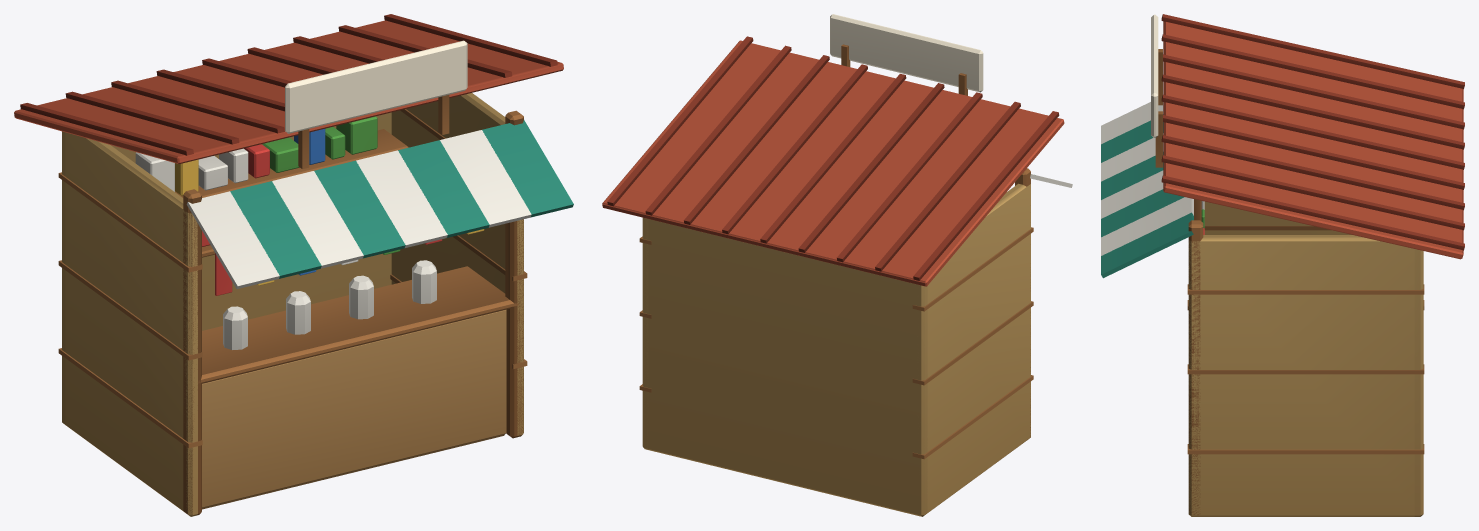
File: kios.glb
3 views of the same model, side by side, from view 1: azimuth 30°, elevation 25°; view 2: azimuth 150°, elevation 25°; view 3: azimuth 270°, elevation 25° (orthographic). The views are drawn at different scales.
Parts seen in each view (by area): view 1: kios_mesh; view 2: kios_mesh; view 3: kios_mesh.
Part boxes in pixels (bbox=[...]): kios_mesh: bbox=[14, 14, 573, 516]; kios_mesh: bbox=[602, 14, 1072, 516]; kios_mesh: bbox=[1101, 14, 1464, 516].
Bounding box in the file's own units: 2.76 × 2.93 × 2.48.
